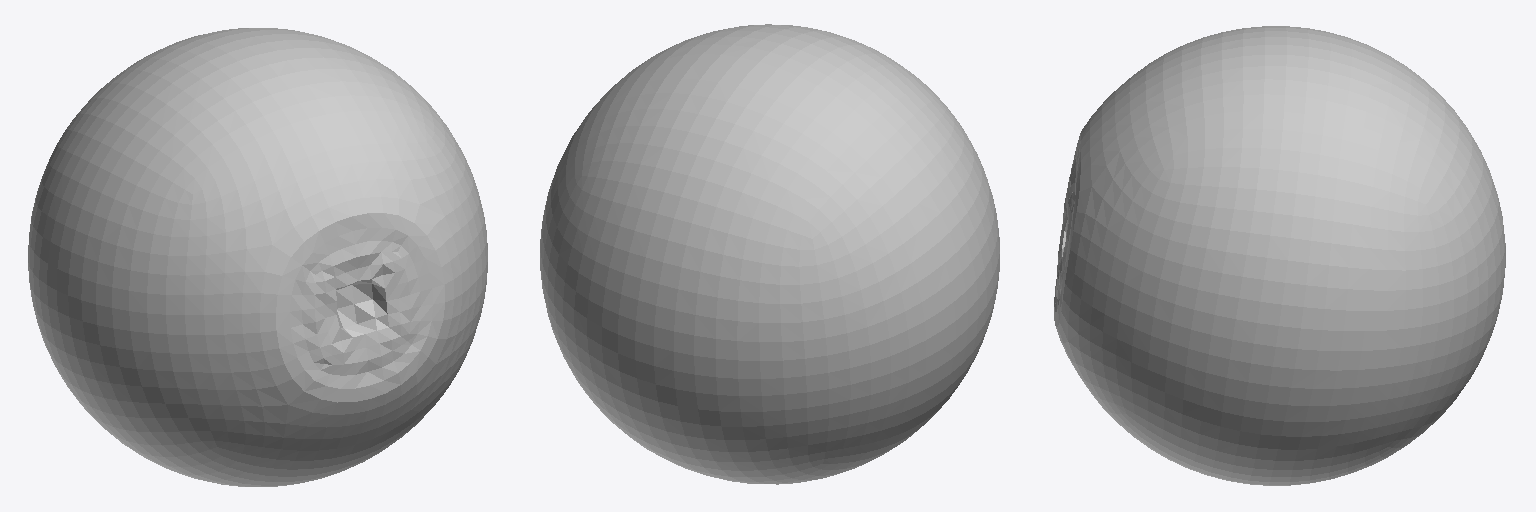
Rendered from eye_right.OBJ.
3 views of the same model, side by side, from view 1: azimuth 30°, elevation 25°; view 2: azimuth 150°, elevation 25°; view 3: azimuth 270°, elevation 25° (orthographic).
Parts seen in each view (by area): view 1: Group60464; view 2: Group60464; view 3: Group60464.
Part boxes in pixels (bbox=[...]): Group60464: bbox=[28, 28, 487, 486]; Group60464: bbox=[540, 24, 999, 484]; Group60464: bbox=[1054, 26, 1505, 485].
Bounding box in the file's own units: 0.0302 × 0.0301 × 0.0296.